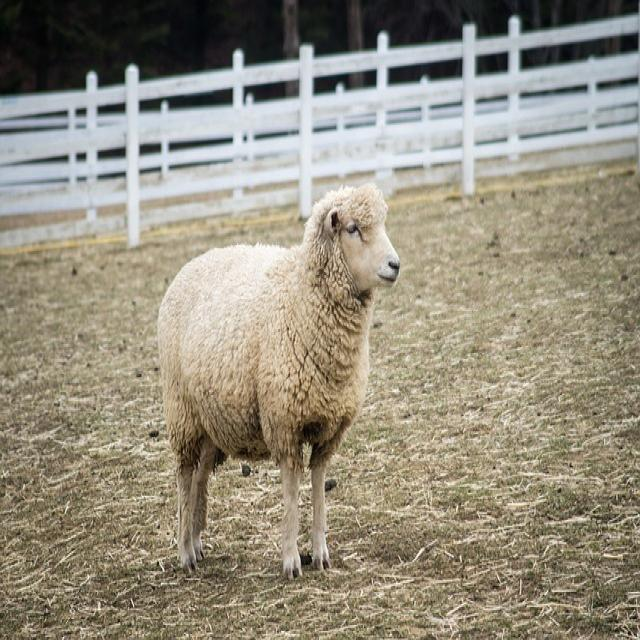goat: (155, 185, 402, 581)
